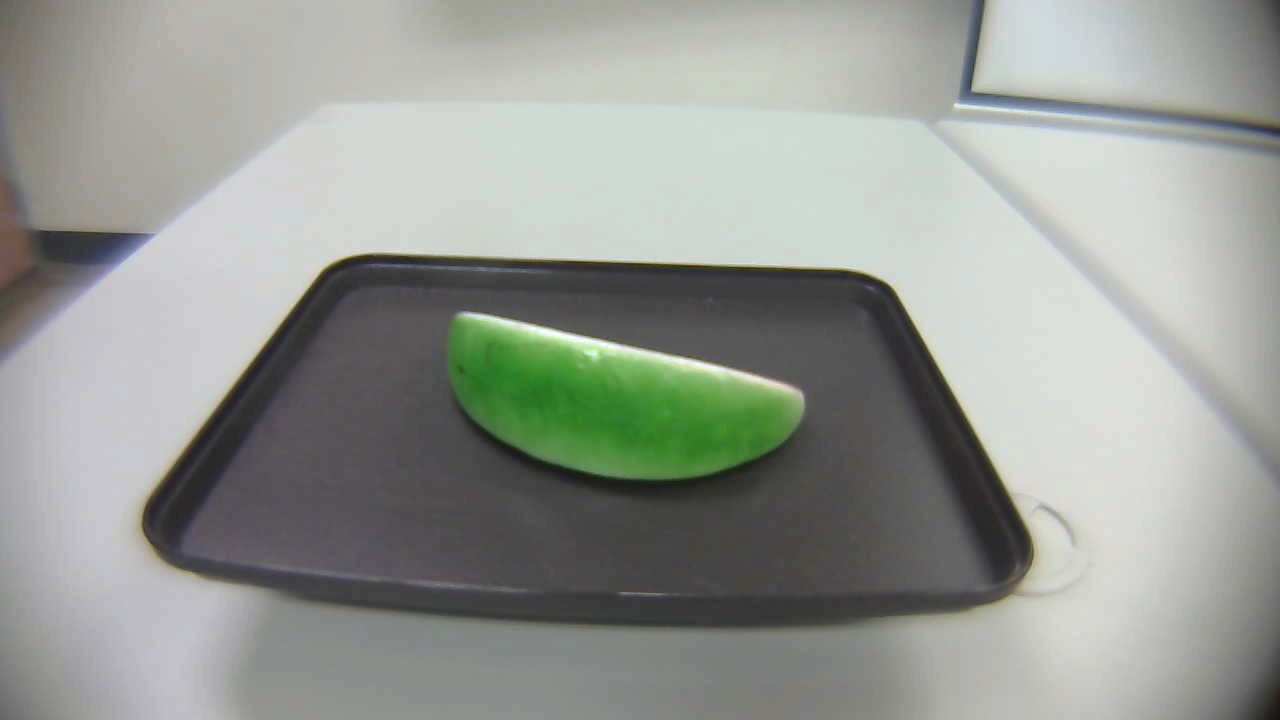water melon: (414, 295, 838, 503)
